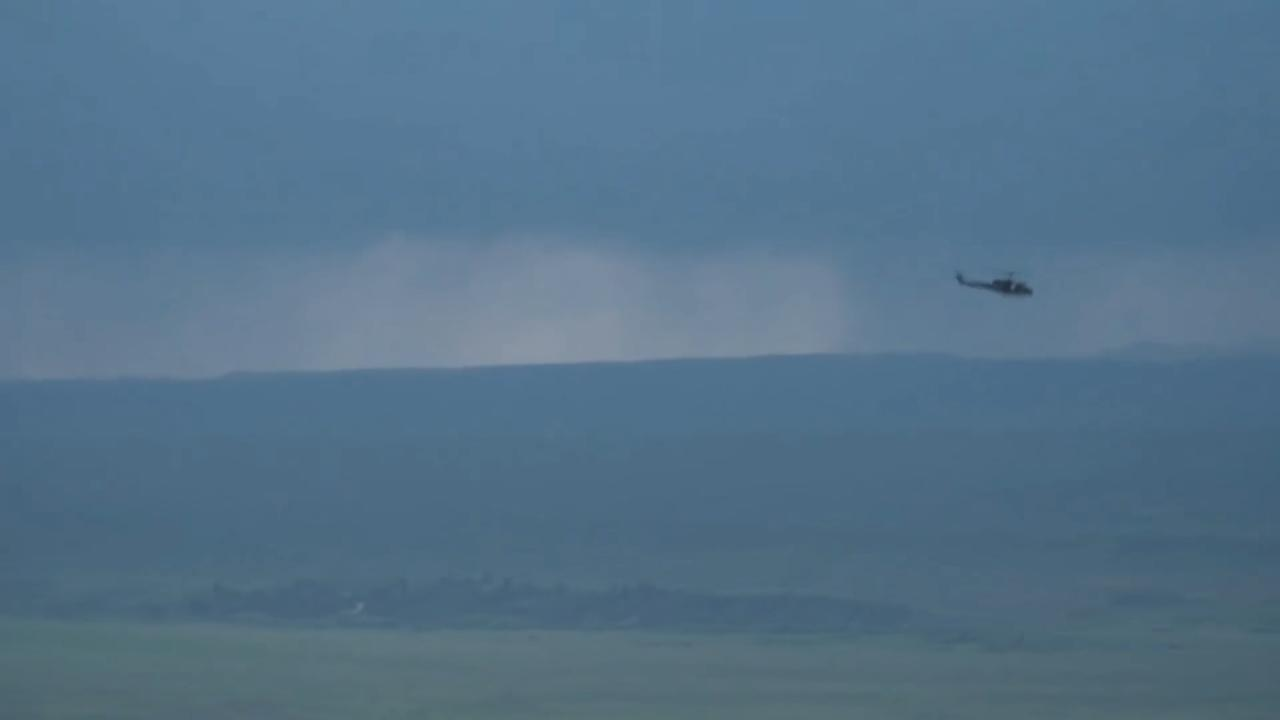Helicopter: (945, 254, 1048, 314)
